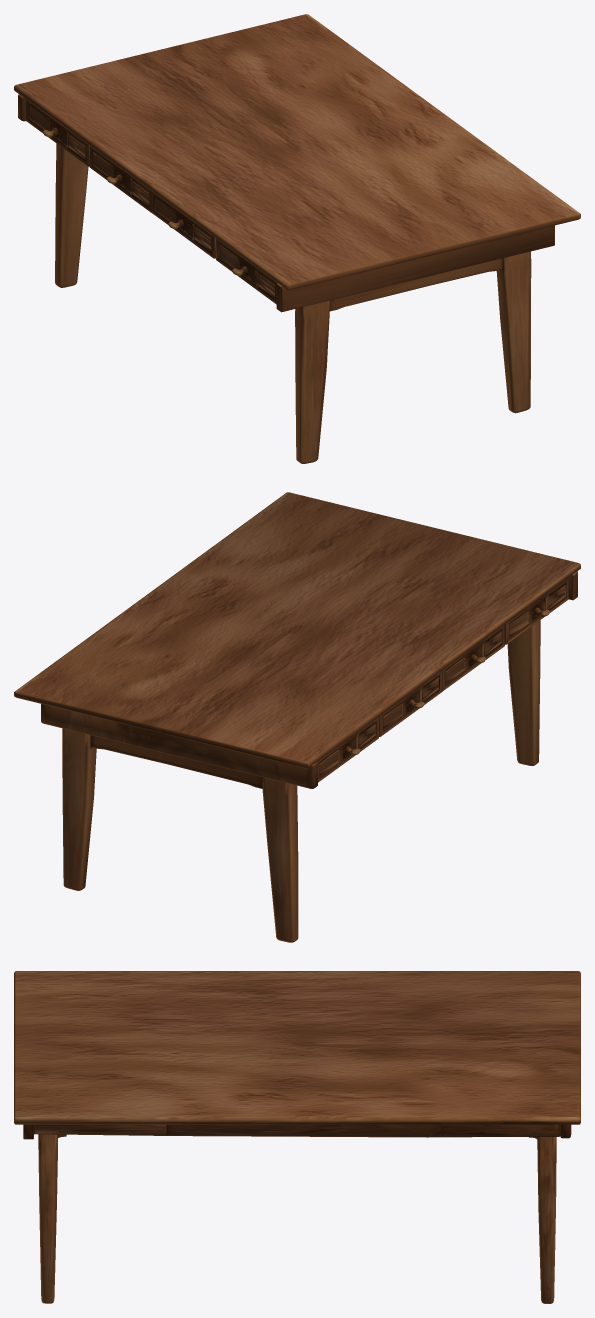
The model's file is writing-desk.glb.
3 renders of one model, top to bottom at view 1: azimuth 30°, elevation 25°; view 2: azimuth 150°, elevation 25°; view 3: azimuth 270°, elevation 25°, orthographic. The views are drawn at different scales.
Visible parts, largest first — view 1: tripo_node_aec2d323-29ca-4be7-8401-7d5522d680a3; view 2: tripo_node_aec2d323-29ca-4be7-8401-7d5522d680a3; view 3: tripo_node_aec2d323-29ca-4be7-8401-7d5522d680a3.
Boxes of the visible parts, x1,y1,x2,y2 form: tripo_node_aec2d323-29ca-4be7-8401-7d5522d680a3: [14, 14, 580, 463]; tripo_node_aec2d323-29ca-4be7-8401-7d5522d680a3: [14, 492, 580, 942]; tripo_node_aec2d323-29ca-4be7-8401-7d5522d680a3: [14, 971, 580, 1303].
Bounding box in the file's own units: 1.35 × 0.8386 × 2.1.
1 material, 1 textured.
